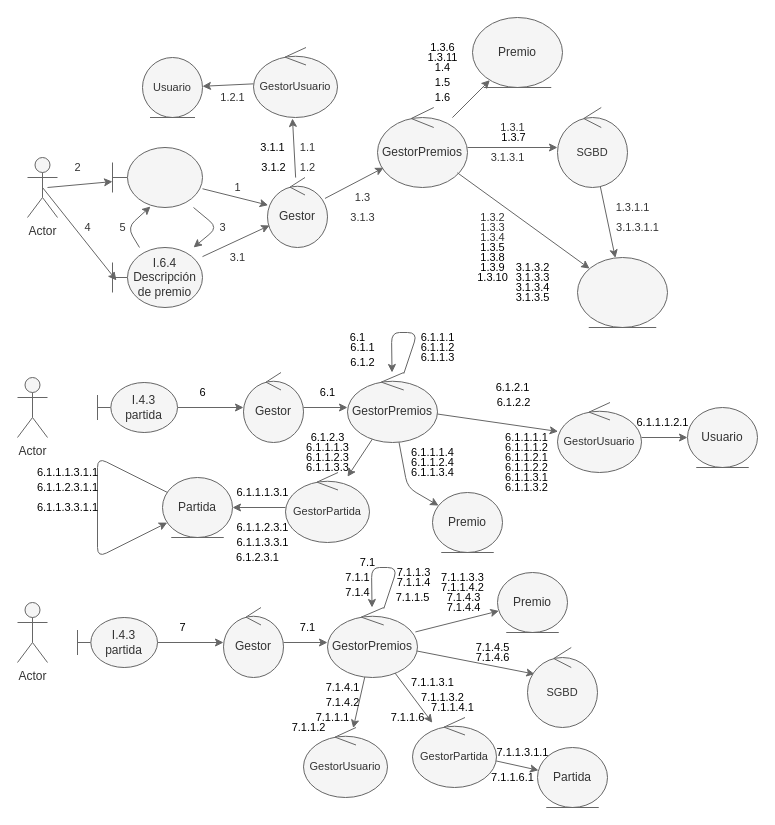
This 775x825 diagram has some shape labels left out. Each missing label, with the centre of its shape:
"I.6.3 Menú de premios" goes at point (157, 177).
"ResultadoSQL" goes at point (622, 292).
